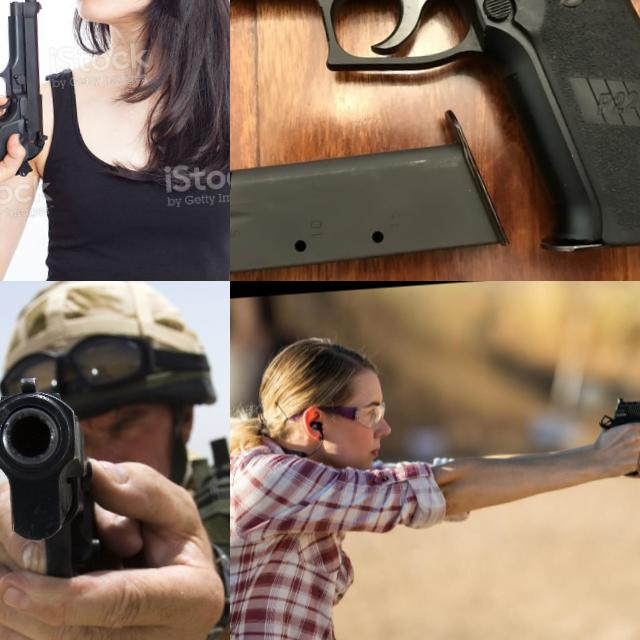handgun: (230, 0, 640, 281), (0, 365, 119, 602), (0, 0, 69, 188), (595, 387, 640, 479)
